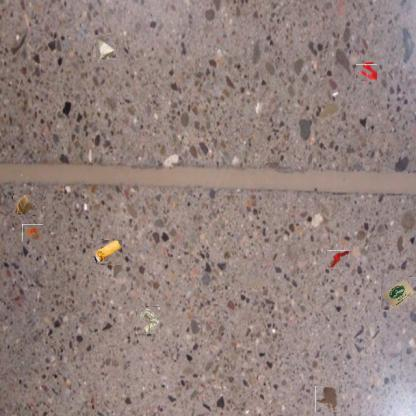dirty: (380, 276, 416, 310), (93, 238, 121, 266), (136, 306, 160, 334), (13, 193, 37, 217), (95, 36, 118, 58), (326, 250, 350, 269), (22, 224, 43, 241)
liquid: (315, 386, 338, 412), (357, 63, 376, 83)
